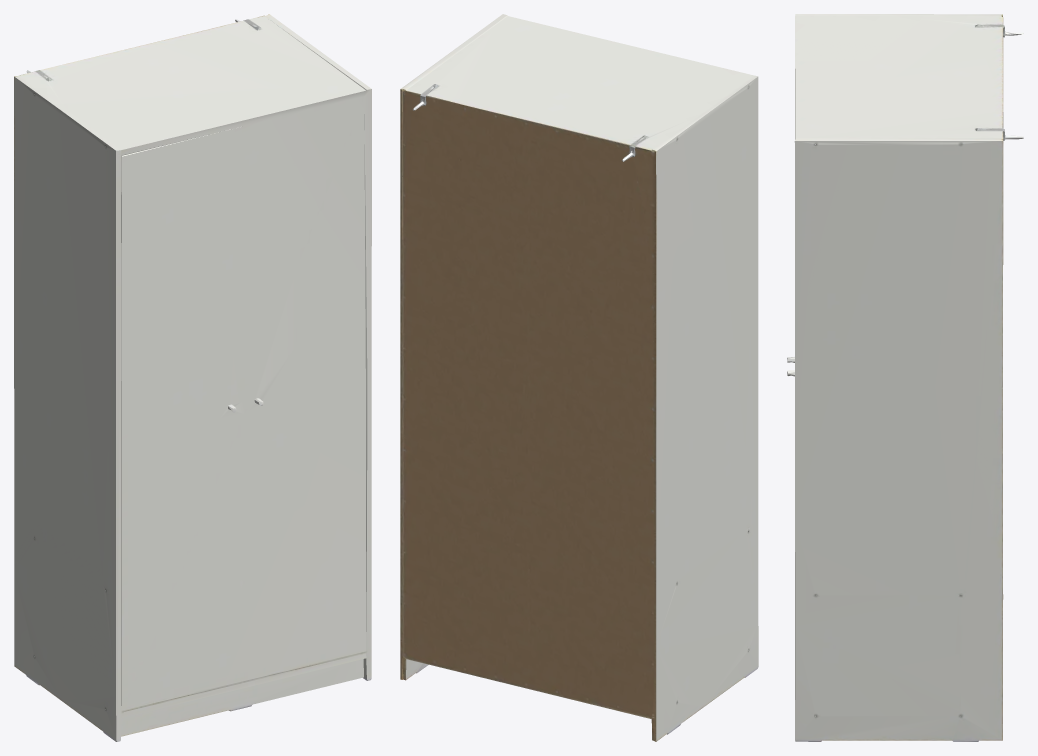
The picture shows the model from 3 angles, left to right: view 1: azimuth 30°, elevation 25°; view 2: azimuth 150°, elevation 25°; view 3: azimuth 270°, elevation 25°; orthographic projection.
Parts seen in each view (by area): view 1: ProcessedMeshNode; view 2: ProcessedMeshNode; view 3: ProcessedMeshNode.
Boxes of the visible parts, bbox=[...] form: ProcessedMeshNode: bbox=[14, 14, 371, 741]; ProcessedMeshNode: bbox=[400, 14, 758, 741]; ProcessedMeshNode: bbox=[787, 14, 1023, 741].
Size of the model in its own units: 0.7968 by 1.76 by 0.626.
1 material, 1 textured.
